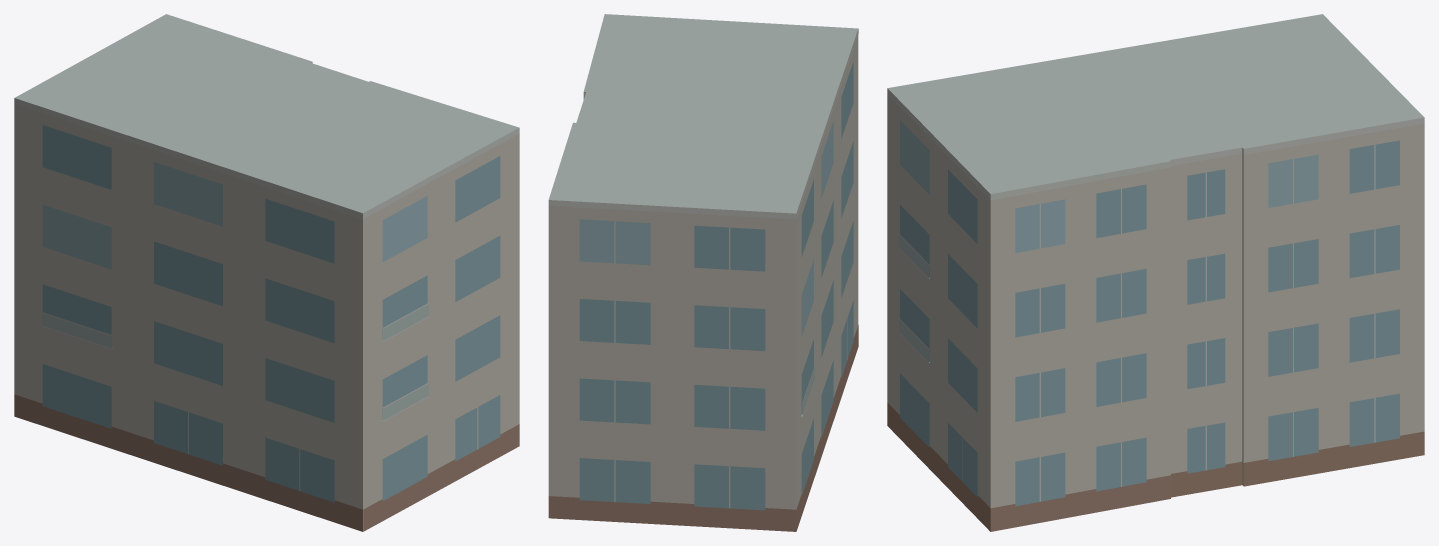
File: survey-upis-32698442.glb
3 renders of one model, left to right at view 1: azimuth 30°, elevation 25°; view 2: azimuth 150°, elevation 25°; view 3: azimuth 270°, elevation 25°, orthographic. The views are drawn at different scales.
Parts seen in each view (by area): view 1: survey-upis-32698442.tmp; view 2: survey-upis-32698442.tmp; view 3: survey-upis-32698442.tmp.
Boxes of the visible parts, left/top/right/bottom form: survey-upis-32698442.tmp: left=14, top=14, right=519, bottom=531; survey-upis-32698442.tmp: left=548, top=14, right=858, bottom=531; survey-upis-32698442.tmp: left=887, top=14, right=1424, bottom=531.
Bounding box in the file's own units: 15.24 × 13.3 × 19.19.
